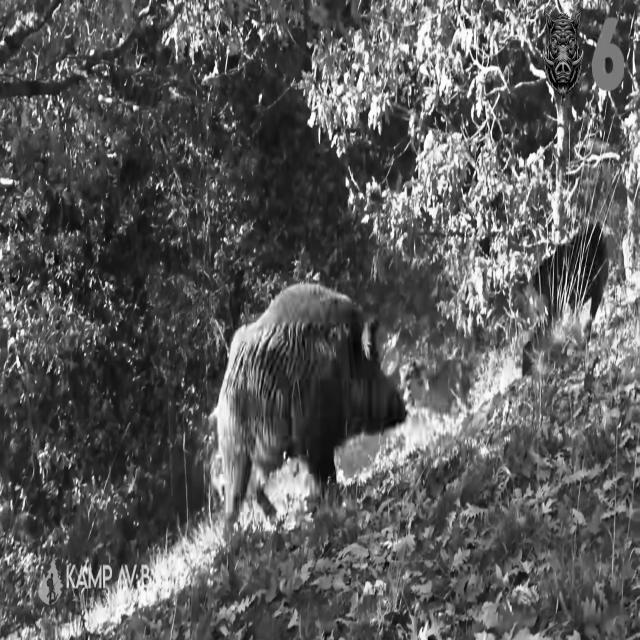boar: (216, 283, 404, 520)
